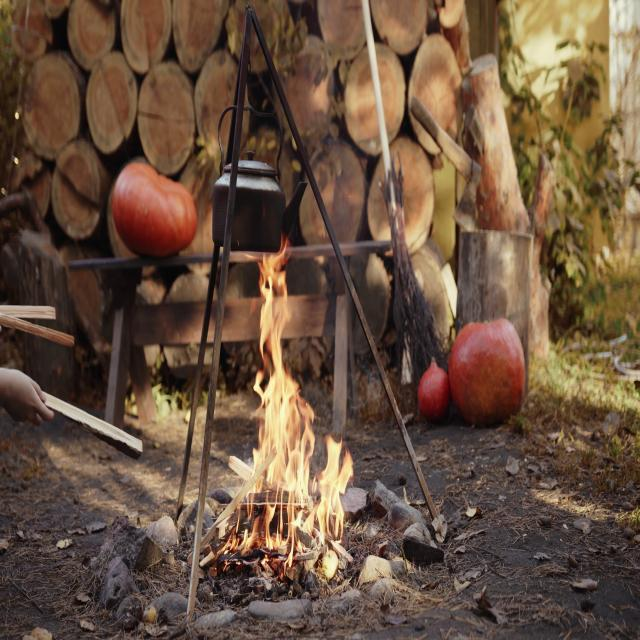Fire: (228, 246, 356, 584)
